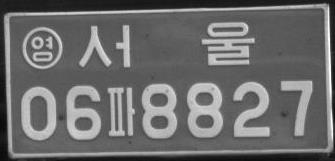0: (20, 85, 57, 141)
2: (233, 80, 271, 137)
6: (65, 84, 102, 140)
7: (280, 79, 314, 136)
8: (186, 80, 223, 139), (141, 82, 177, 140)
서울_D: (78, 20, 255, 68)
영: (22, 25, 63, 70)
파: (106, 86, 135, 136)
